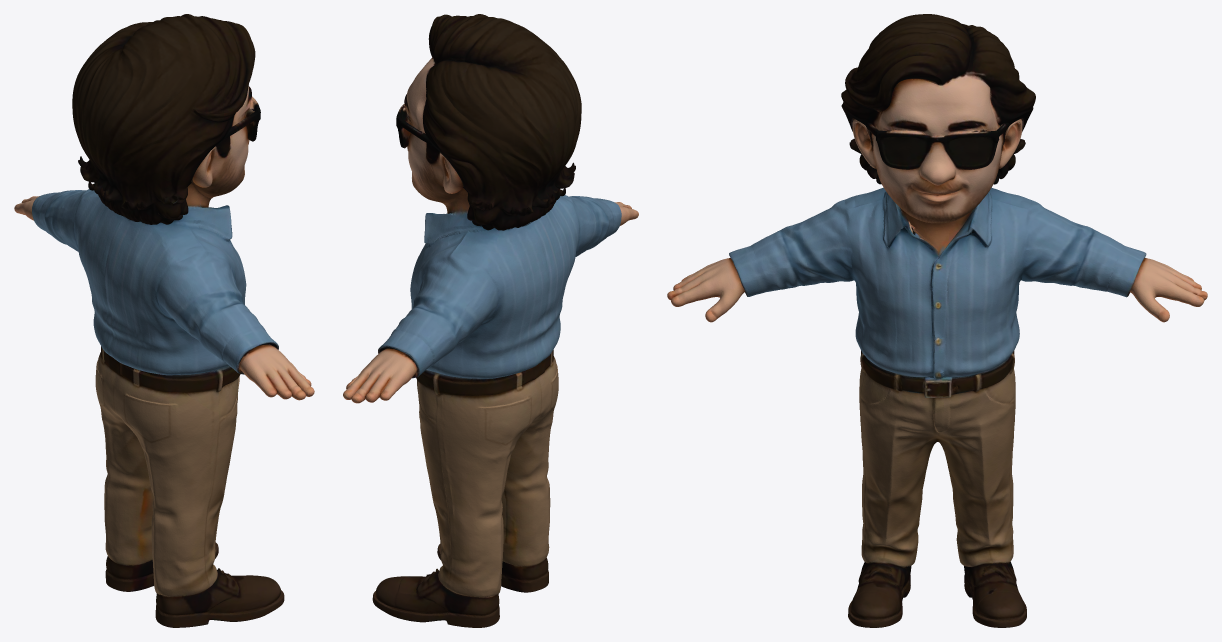
The model's file is Pramil_3d_Grediant-transformed.glb.
3 renders of one model, left to right at view 1: azimuth 30°, elevation 25°; view 2: azimuth 150°, elevation 25°; view 3: azimuth 270°, elevation 25°, orthographic.
Visible parts, largest first — view 1: tripo_node_5e3e2ad7-51de-428a-ab87-aa722cf2b7ab; view 2: tripo_node_5e3e2ad7-51de-428a-ab87-aa722cf2b7ab; view 3: tripo_node_5e3e2ad7-51de-428a-ab87-aa722cf2b7ab.
Boxes of the visible parts, x1,y1,x2,y2 form: tripo_node_5e3e2ad7-51de-428a-ab87-aa722cf2b7ab: (14,14,314,627); tripo_node_5e3e2ad7-51de-428a-ab87-aa722cf2b7ab: (343,14,638,627); tripo_node_5e3e2ad7-51de-428a-ab87-aa722cf2b7ab: (667,14,1207,627).
Bounding box in the file's own units: 0.3084 × 1 × 0.8538.
1 material, 1 textured.
